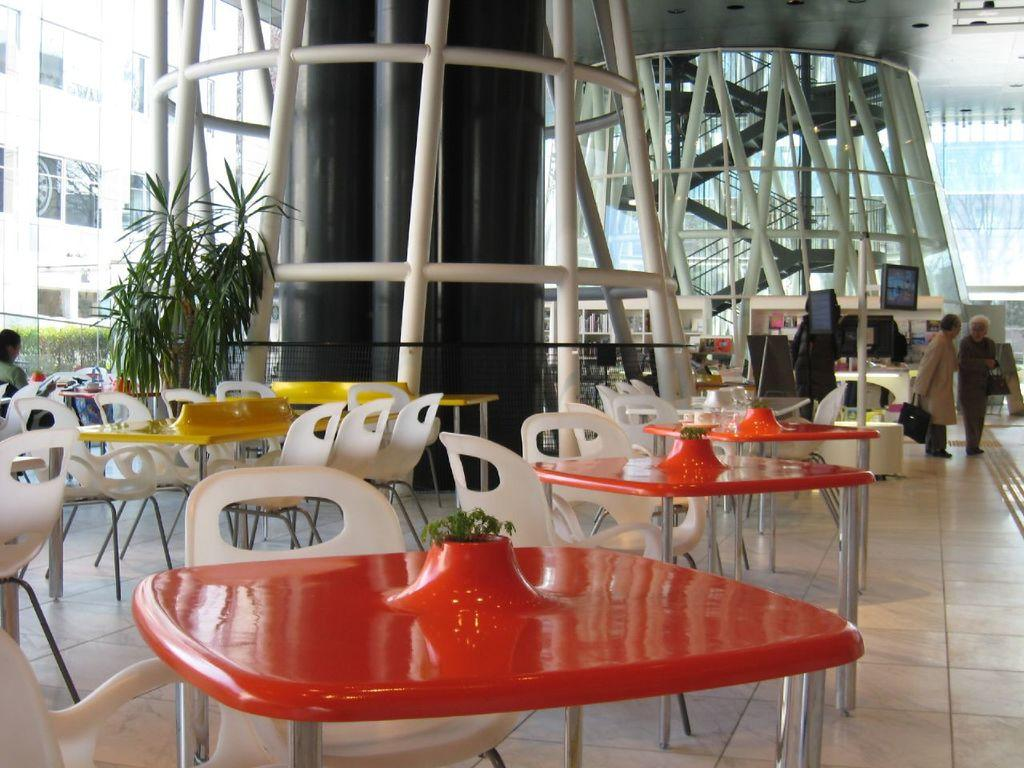Computer-monitor: (879, 262, 918, 310)
Luggage-and-bags: (896, 395, 931, 444)
